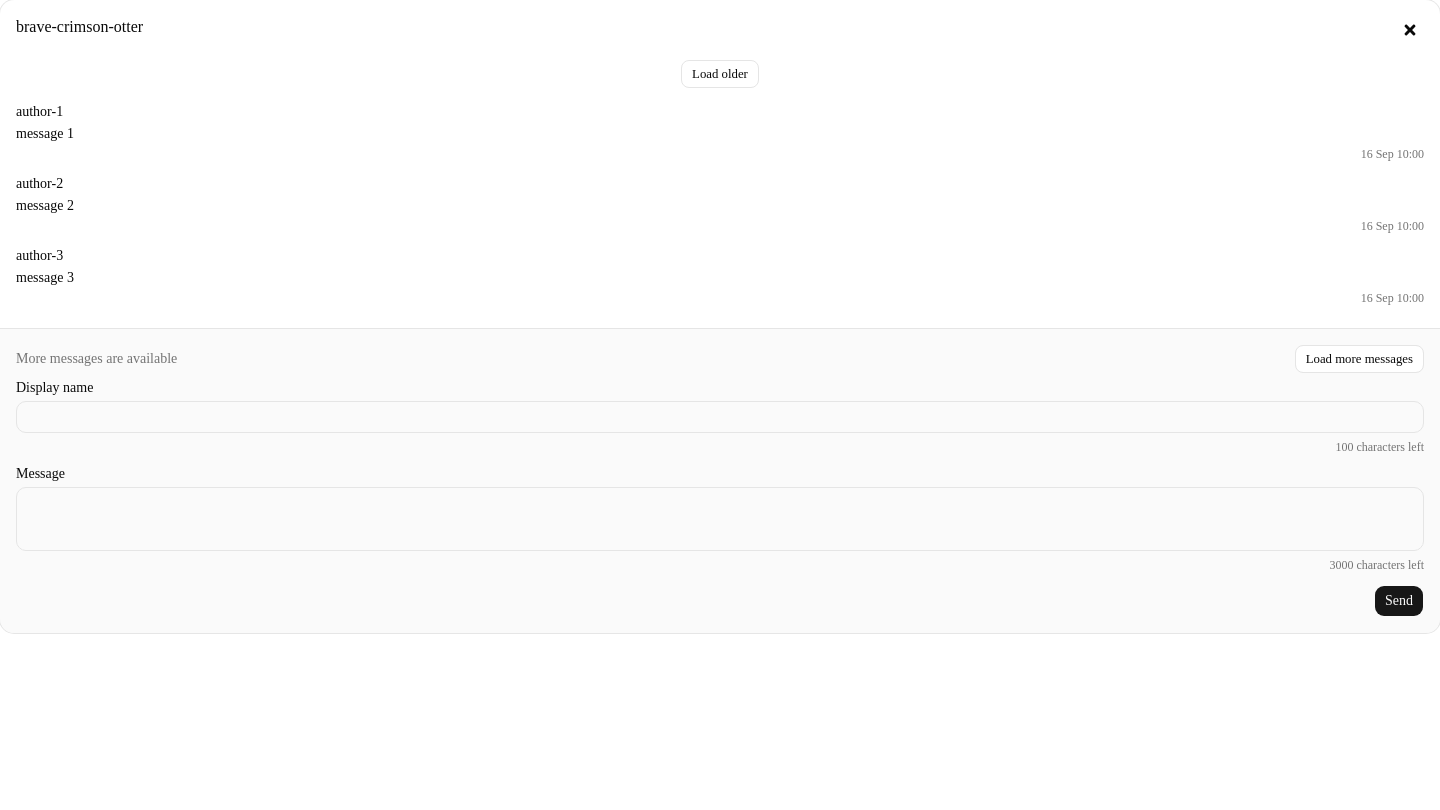
Test: RoomPanel backlog › disables Load more messages during an older fetch, without its spinner
This screenshot has width=1440, height=810.
Click the button "Load older": (720, 74) x1=681 y1=60 x2=759 y2=88
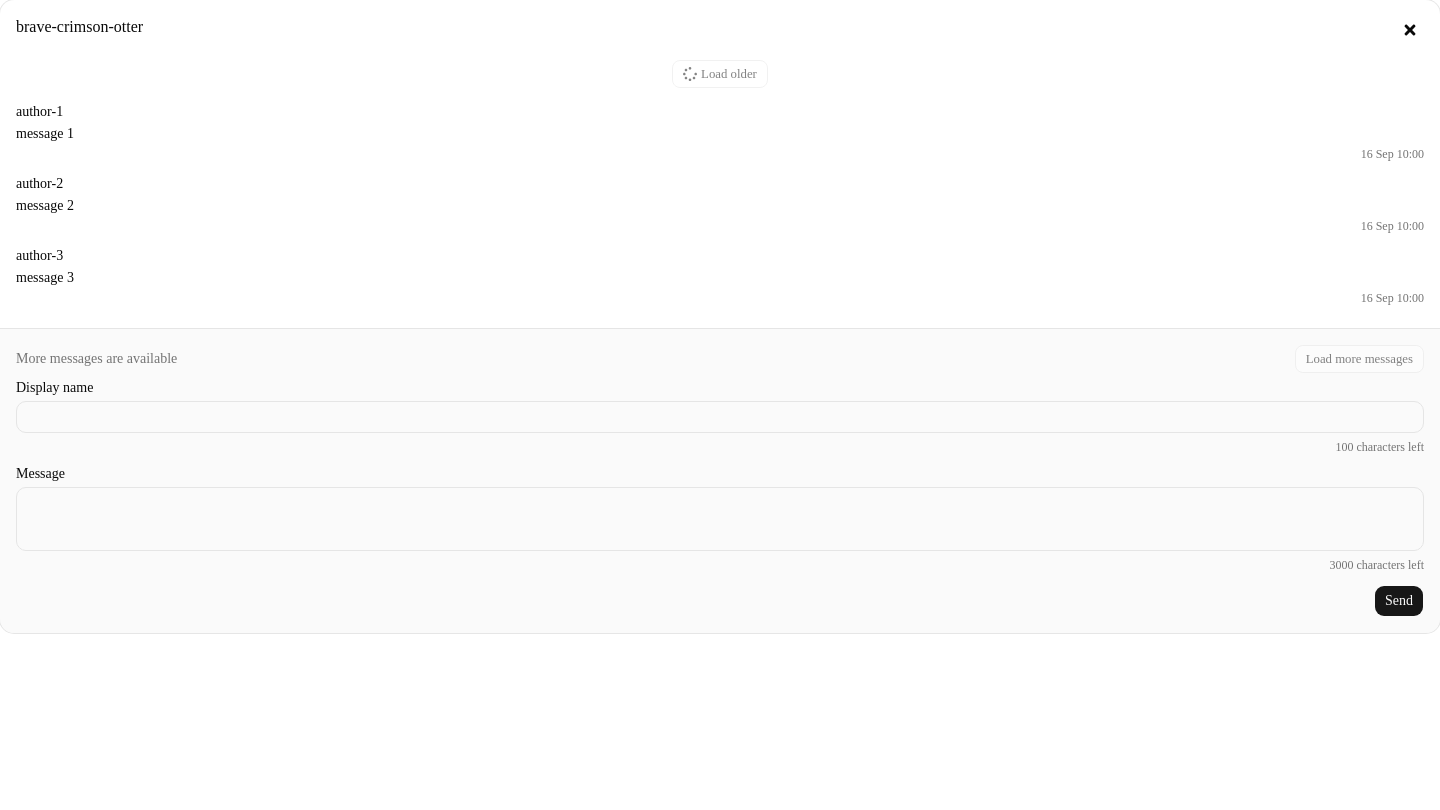
Expected: the button "Load more messages" is disabled, x1=1295 y1=345 x2=1424 y2=373
